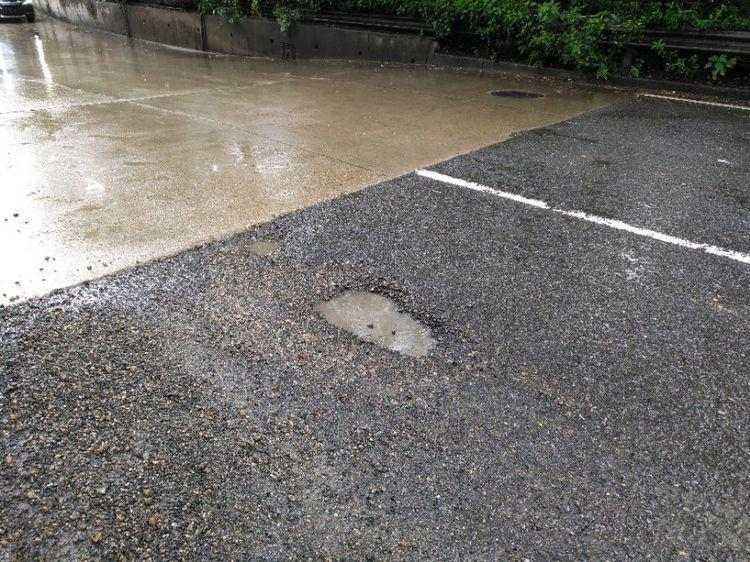pothole: (309, 280, 449, 365), (241, 235, 286, 258)
